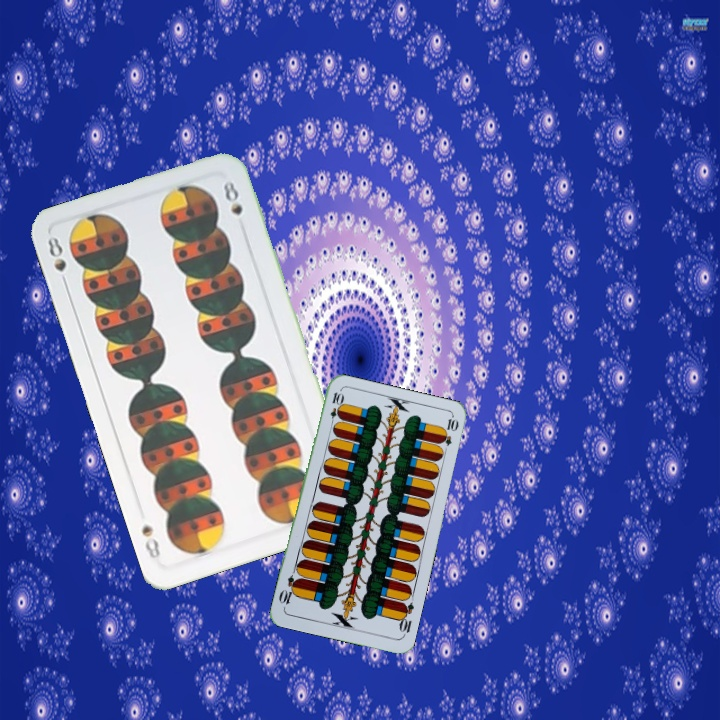E10: (395, 599, 416, 639), (326, 388, 344, 429)
S8: (43, 232, 71, 290)
